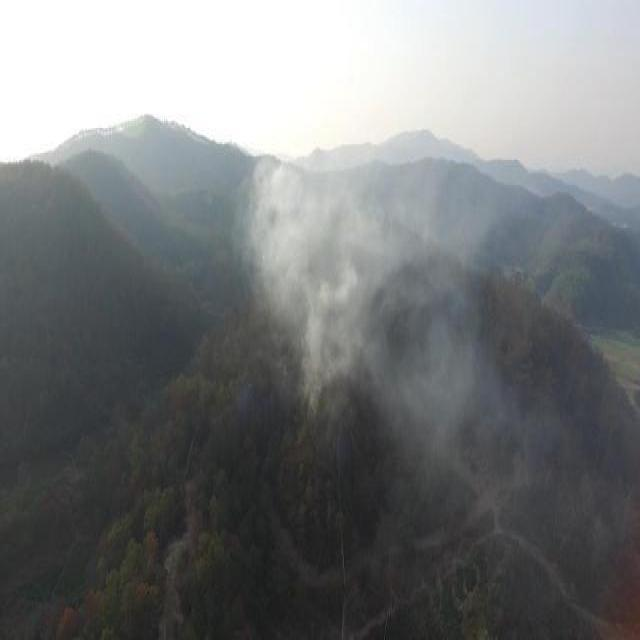Smoke: (231, 148, 563, 486)
